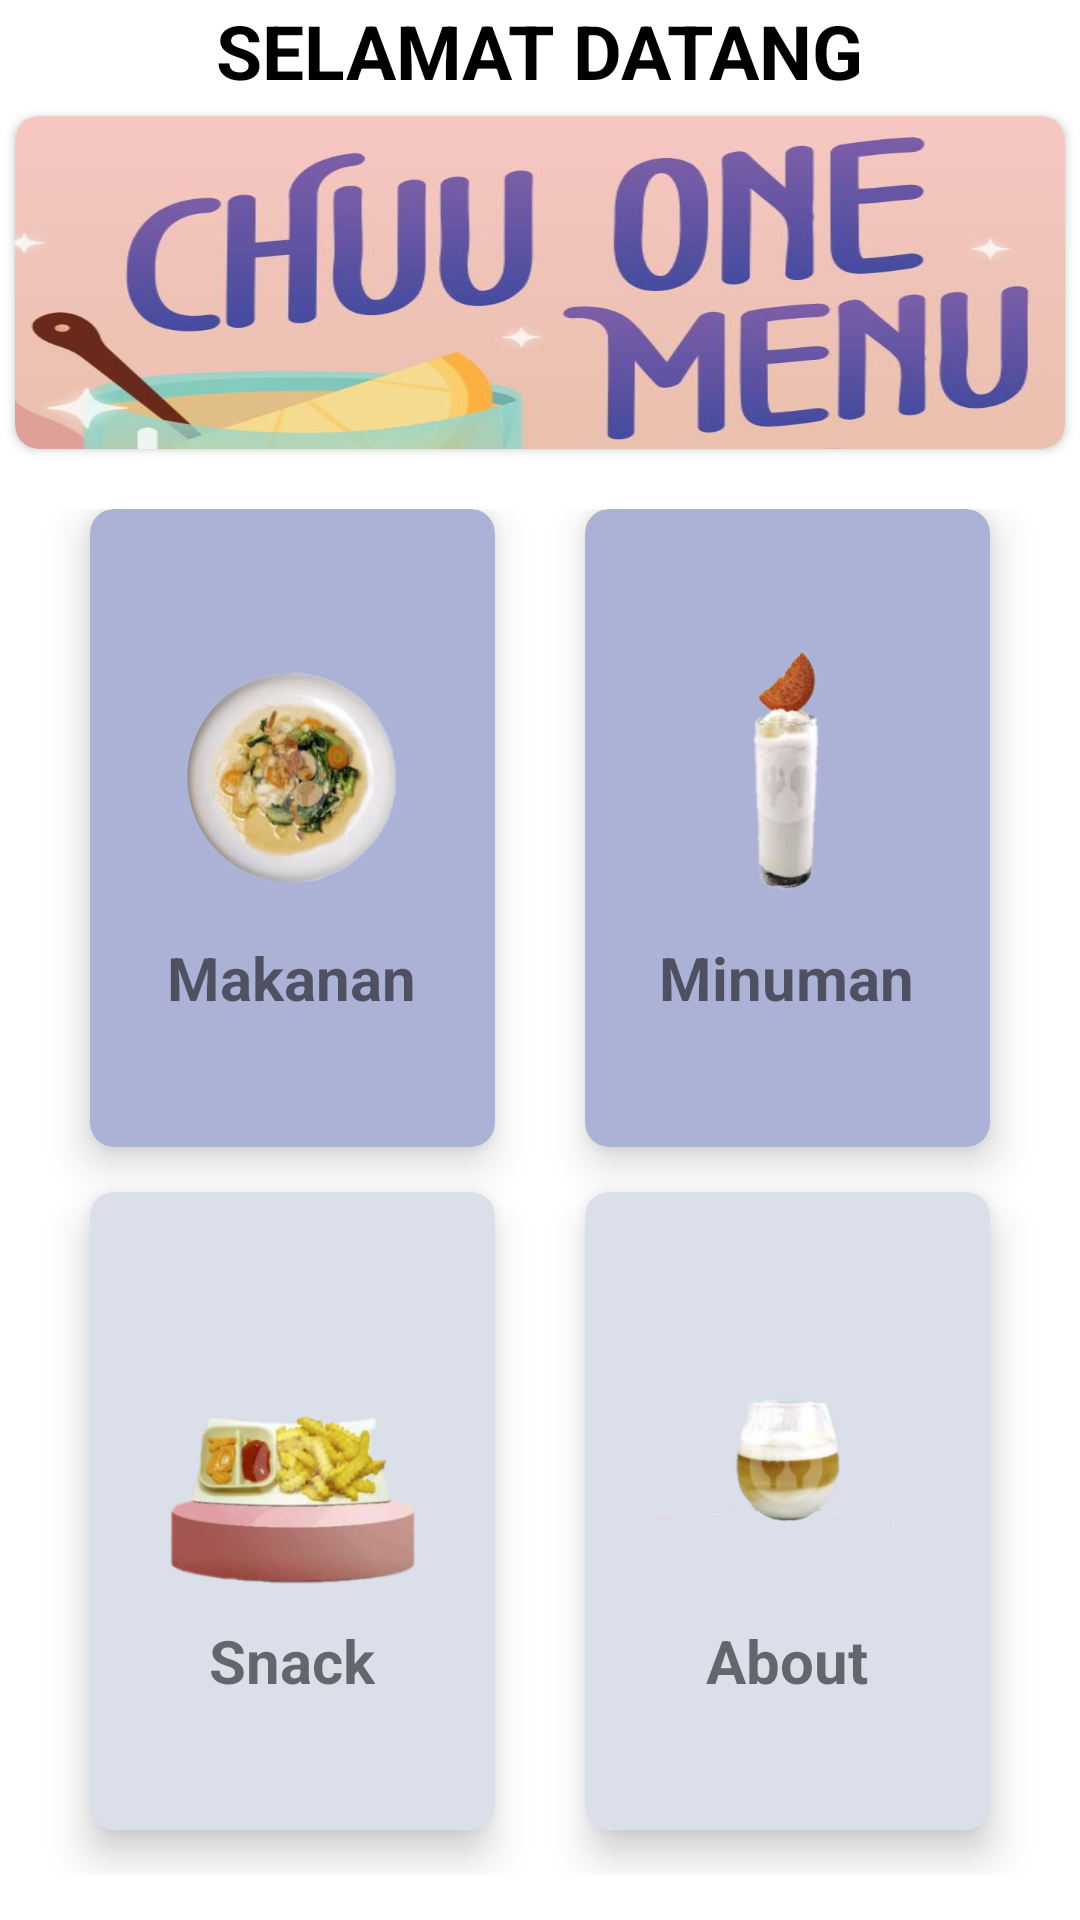

Named icons in this screenshot (1080 x 1920) and their centers, (x,y):
foodfix: (291,777)
